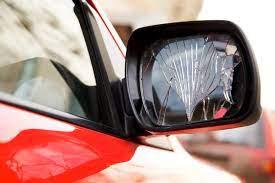Sidemirror-Damage: (118, 22, 262, 130)
